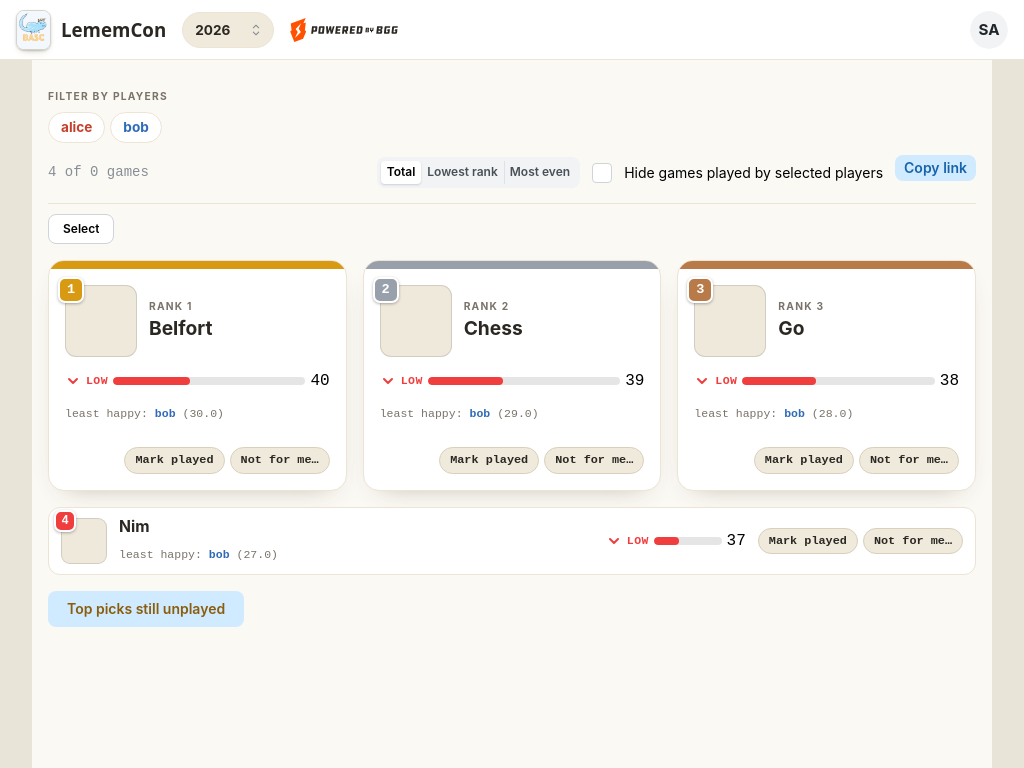
Test case: Scoreboard › member vetoes › undo bar › shows the bar after a veto from a row
Click the button "Not for me…" in the row of "37". click: [913, 541]
box: left=863, top=528, right=963, bottom=554
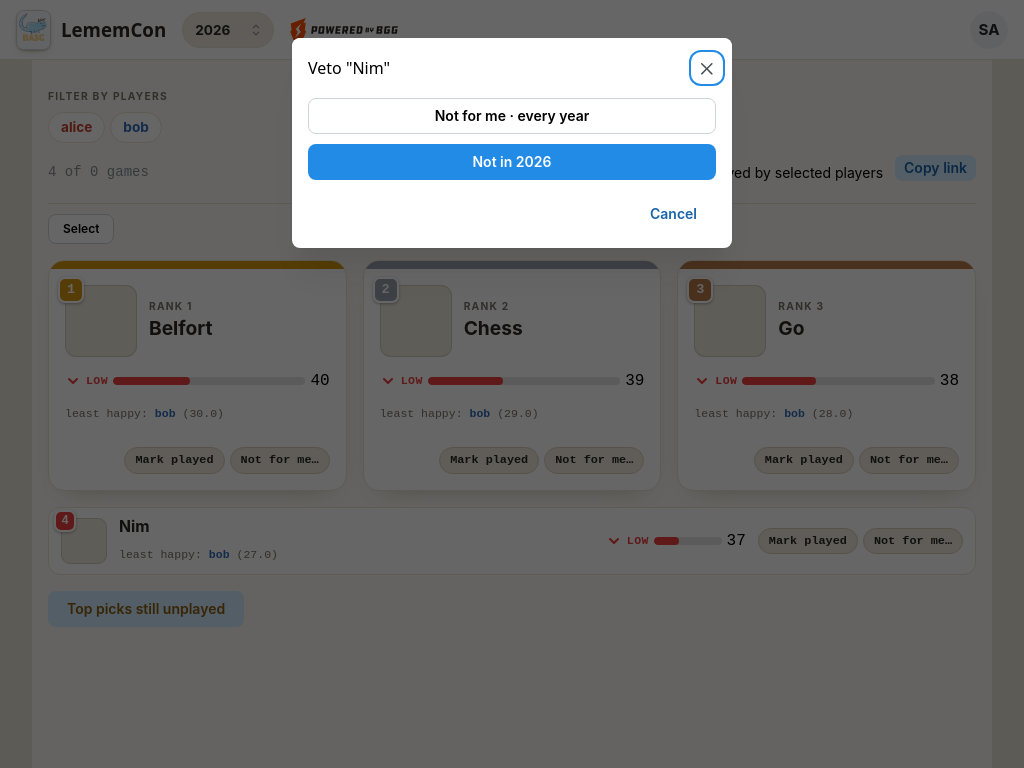
Click the button "Not for me · every year". click: [512, 116]
box: left=308, top=98, right=716, bottom=134
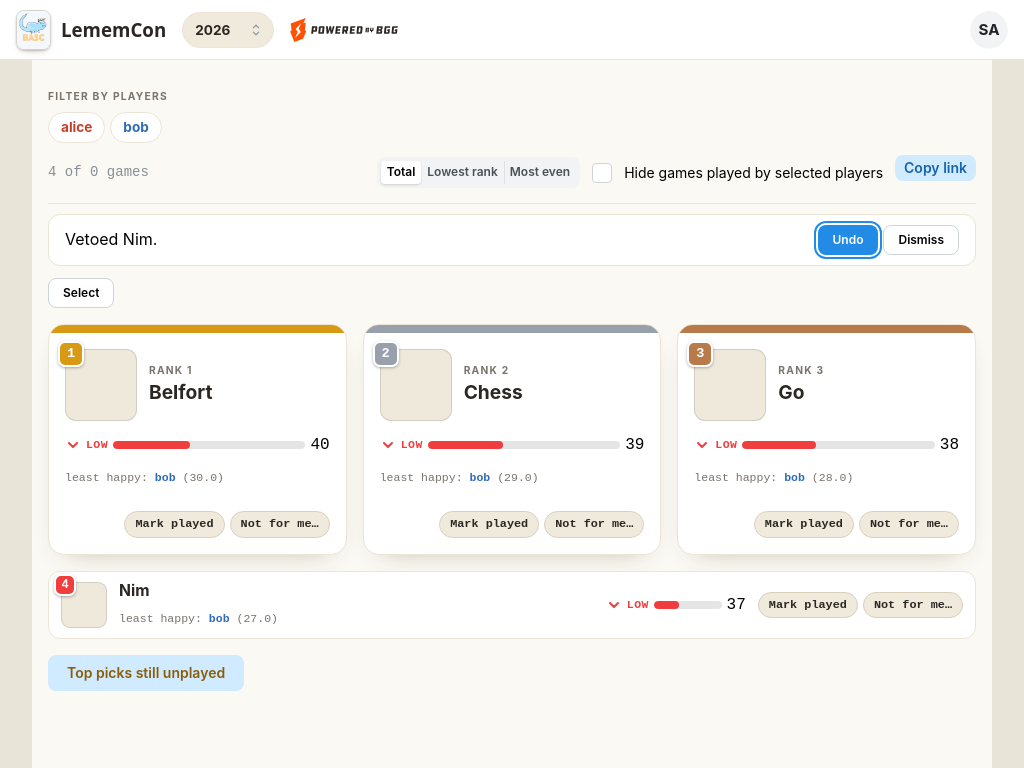
Result: the message shows "Vetoed Nim." at left=48, top=214, right=976, bottom=266
